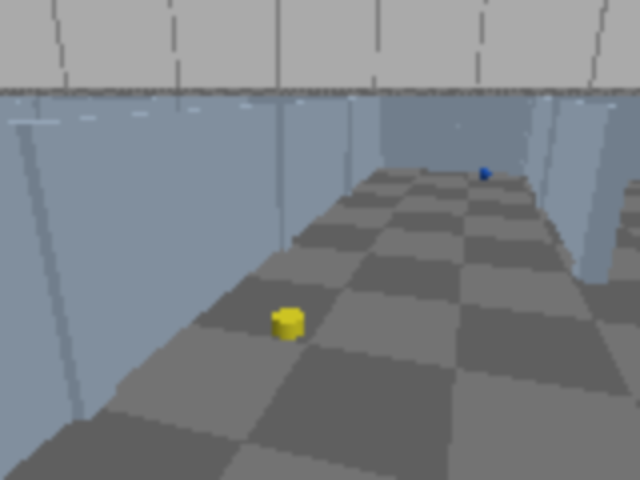puck: (277, 310, 300, 338), (475, 167, 494, 181)
